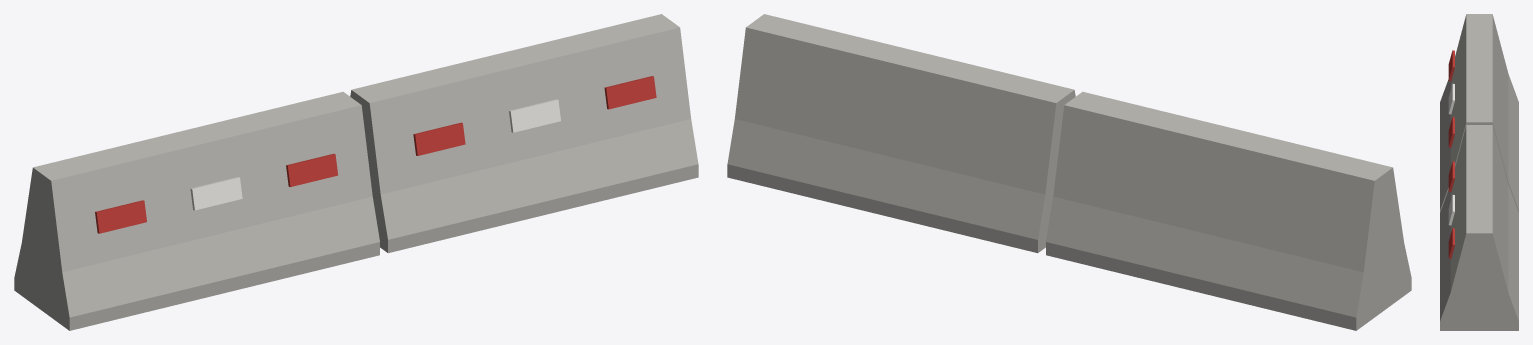
The model's file is concrete_barrier.glb.
3 views of the same model, side by side, from view 1: azimuth 30°, elevation 25°; view 2: azimuth 150°, elevation 25°; view 3: azimuth 270°, elevation 25° (orthographic). The views are drawn at different scales.
Parts seen in each view (by area): view 1: concrete_barrier; view 2: concrete_barrier; view 3: concrete_barrier.
Boxes of the visible parts, x1,y1,x2,y2 form: concrete_barrier: (14, 14, 698, 330); concrete_barrier: (727, 14, 1411, 330); concrete_barrier: (1440, 14, 1518, 330).
Size of the model in its own units: 3.95 by 0.82 by 0.6.
